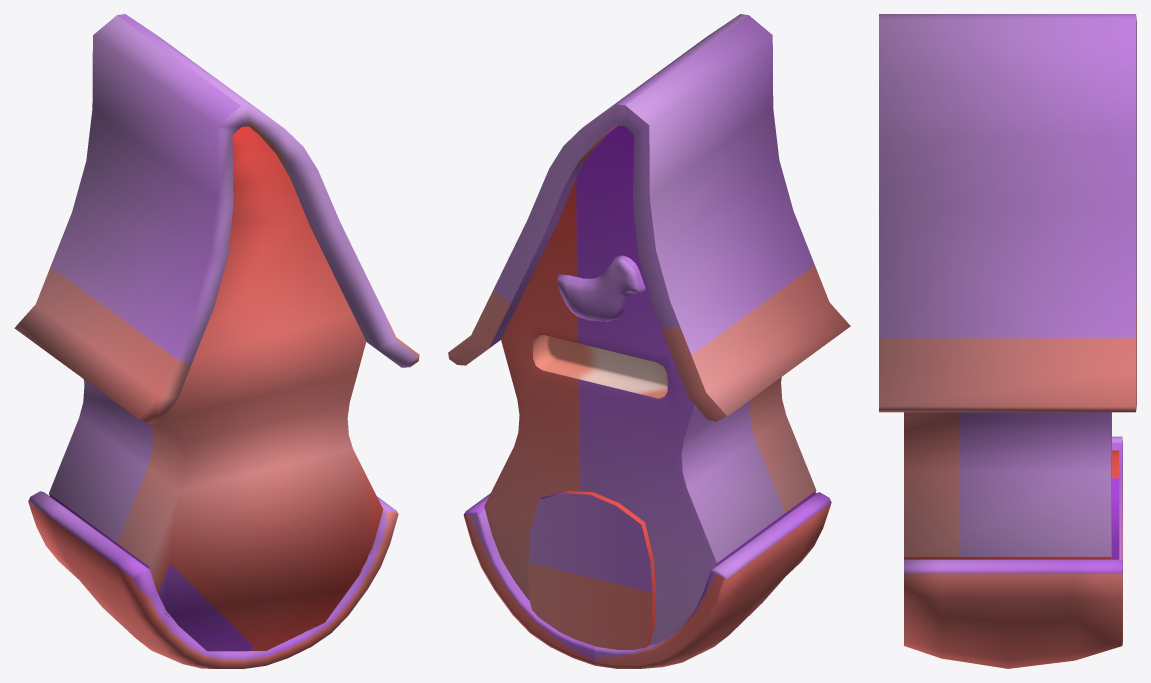
Rendered from MailboxD_red.fbx.
3 renders of one model, left to right at view 1: azimuth 30°, elevation 25°; view 2: azimuth 150°, elevation 25°; view 3: azimuth 270°, elevation 25°, orthographic. The views are drawn at different scales.
Parts seen in each view (by area): view 1: MailboxD_base.003, MailboxD_roof.003; view 2: MailboxD_roof.003, MailboxD_base.003, MailboxD_birdie.003; view 3: MailboxD_roof.003, MailboxD_base.003.
Part boxes in pixels (x1,y1,x2,y2): MailboxD_base.003: (49,126,383,651); MailboxD_roof.003: (14,14,419,668); MailboxD_roof.003: (448,14,850,668); MailboxD_base.003: (484,125,816,644); MailboxD_birdie.003: (557,255,645,321); MailboxD_roof.003: (879,14,1136,668); MailboxD_base.003: (904,412,1111,559).
Bounding box in the file's own units: 120 × 245 × 92.07.
